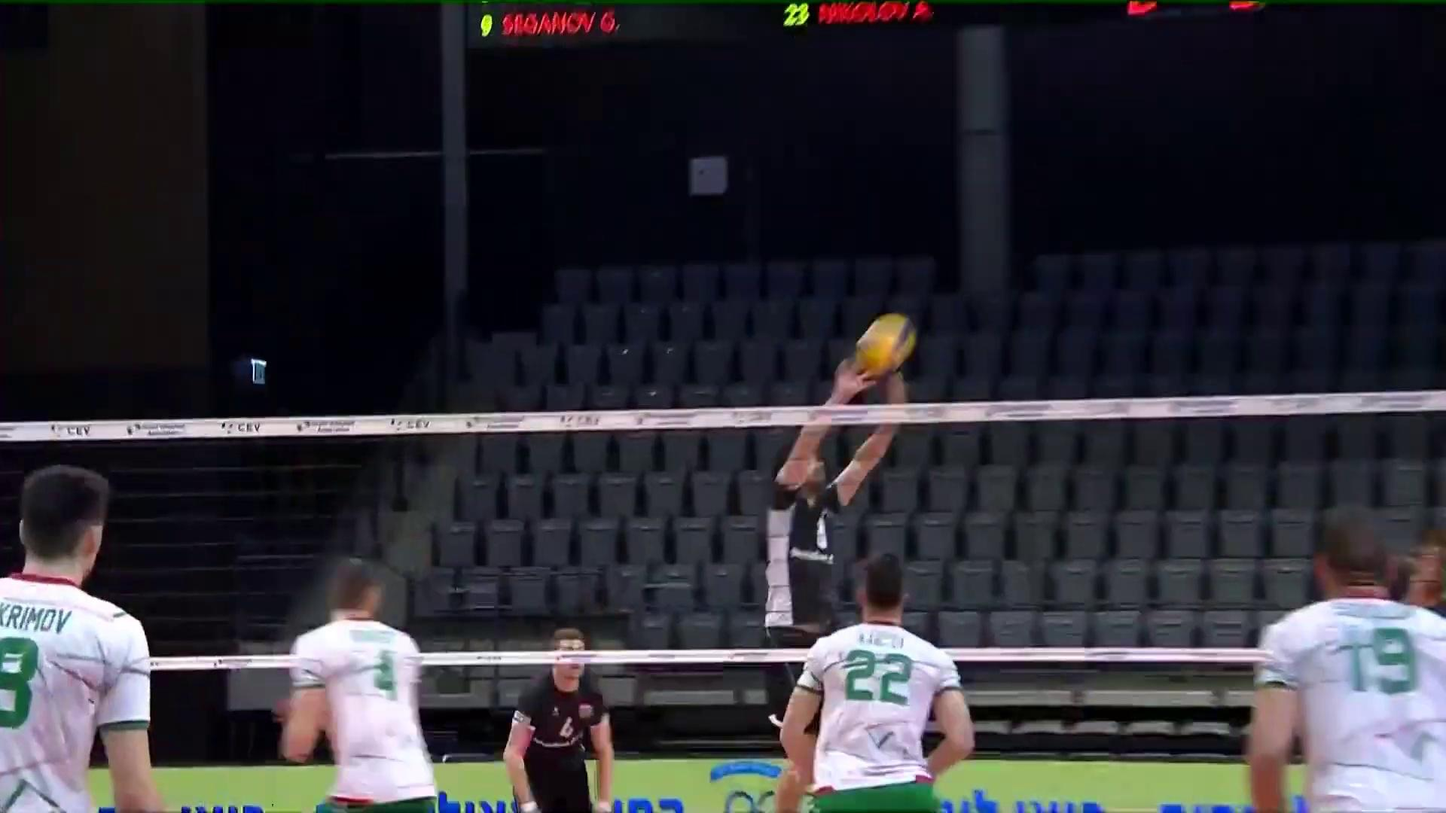ball: (852, 313, 919, 378)
